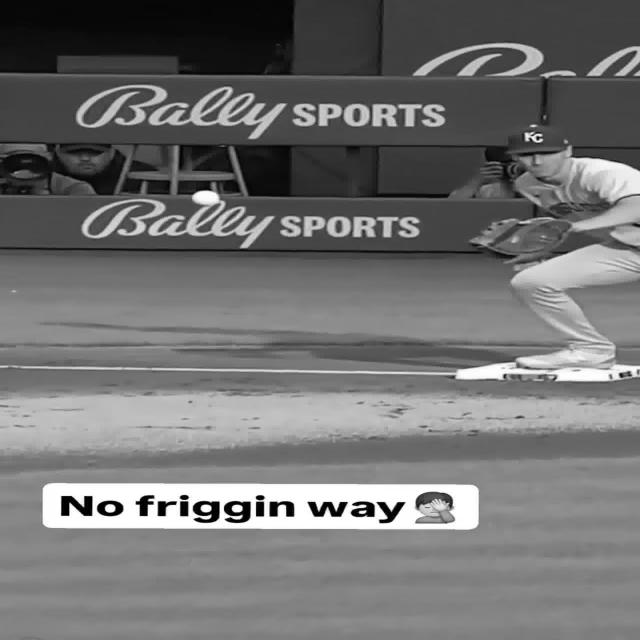base: (456, 362, 640, 382)
baseball: (191, 190, 220, 206)
baseball_glove: (469, 218, 573, 255)
shoe: (516, 349, 616, 369)
